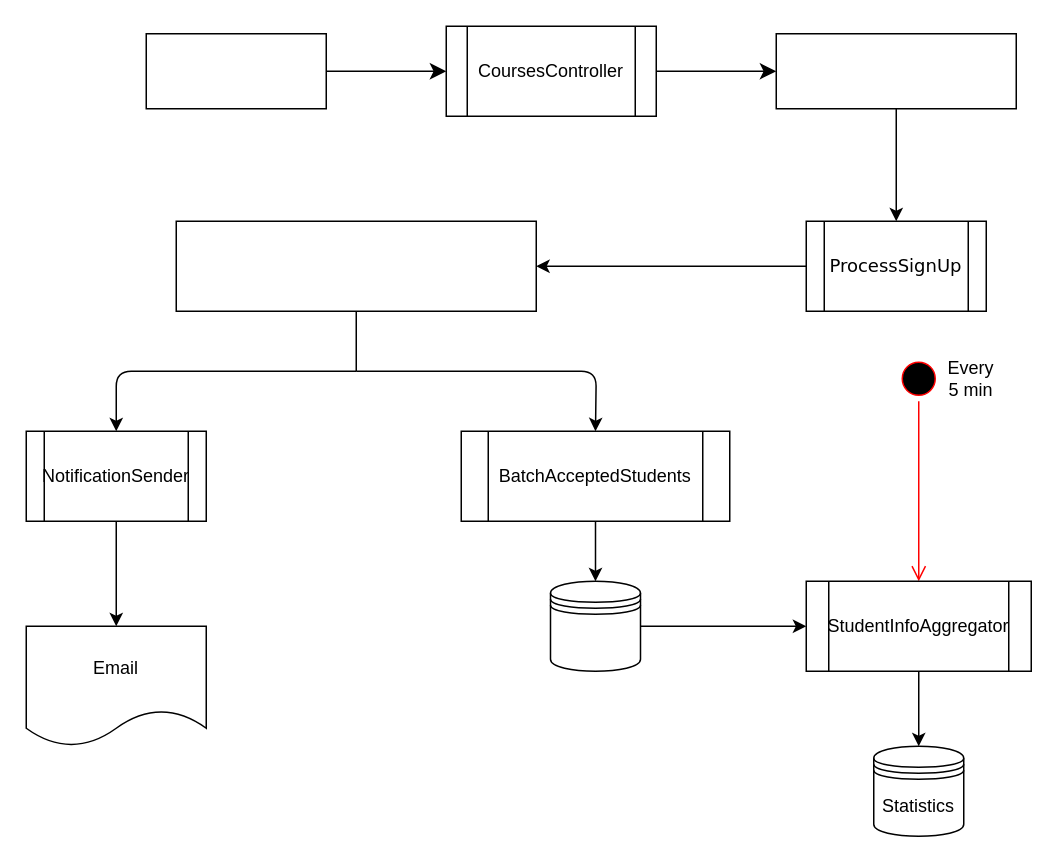
The diagram is 1058 pixels wide and 863 high, and some of its shapes have lost their labels. Each missing label, with the centre of its shape:
"NEW_SIGN_UP_TOPIC" belongs at [895,70].
"PROCESSED_SIGN_UP_TOPIC" belongs at [355,265].
"Sign Up" belongs at [235,70].
